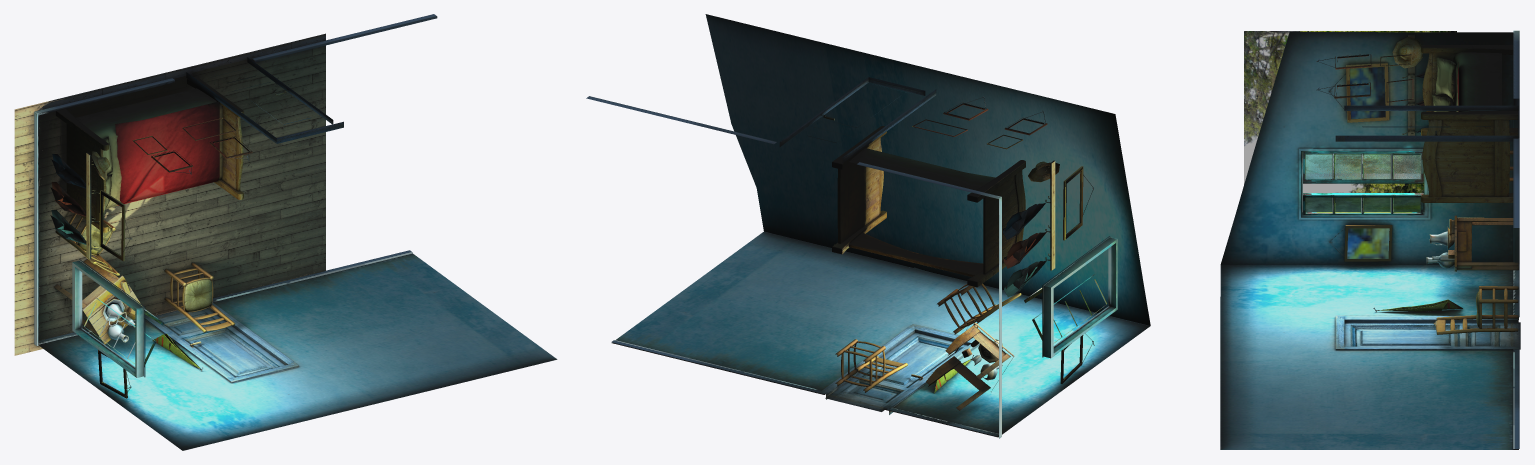
File: van-gogh-room_smaller_textures.glb
3 renders of one model, left to right at view 1: azimuth 30°, elevation 25°; view 2: azimuth 150°, elevation 25°; view 3: azimuth 270°, elevation 25°, orthographic. The views are drawn at different scales.
Parts seen in each view (by area): view 1: walls, FLOOR, bad_for, Doors, bad, rest, chair, table, veshalka, wall_staff; view 2: rest, walls, bad, Doors, veshalka, chair, table, bad_for, wall_staff; view 3: walls, bad, Doors, rest, back, bad_for, glass, wall_staff, table, glass2, chair, win_anim (+2 smaller).
Boxes of the visible parts, x1=… form: walls: x1=38, y1=253, x2=557, y2=450; FLOOR: x1=14, y1=33, x2=325, y2=355; bad_for: x1=76, y1=88, x2=222, y2=220; Doors: x1=144, y1=57, x2=343, y2=383; bad: x1=56, y1=76, x2=243, y2=232; rest: x1=34, y1=14, x2=437, y2=345; chair: x1=56, y1=213, x2=235, y2=332; table: x1=54, y1=259, x2=142, y2=344; veshalka: x1=50, y1=90, x2=287, y2=347; wall_staff: x1=98, y1=118, x2=252, y2=398; rest: x1=586, y1=14, x2=1150, y2=438; walls: x1=612, y1=231, x2=1150, y2=437; bad: x1=832, y1=126, x2=1025, y2=287; Doors: x1=779, y1=77, x2=979, y2=414; veshalka: x1=822, y1=115, x2=1059, y2=380; chair: x1=835, y1=283, x2=1021, y2=392; table: x1=926, y1=322, x2=1014, y2=410; bad_for: x1=849, y1=148, x2=995, y2=190; wall_staff: x1=912, y1=96, x2=1094, y2=393; walls: x1=1220, y1=32, x2=1518, y2=449; bad: x1=1421, y1=45, x2=1518, y2=202; Doors: x1=1335, y1=105, x2=1520, y2=350; rest: x1=1347, y1=30, x2=1519, y2=448; back: x1=1244, y1=31, x2=1456, y2=211; bad_for: x1=1432, y1=52, x2=1501, y2=111; glass: x1=1305, y1=154, x2=1420, y2=178; wall_staff: x1=1316, y1=54, x2=1462, y2=312; table: x1=1426, y1=215, x2=1518, y2=271; glass2: x1=1305, y1=197, x2=1420, y2=212; chair: x1=1436, y1=150, x2=1518, y2=334; win_anim: x1=1303, y1=151, x2=1423, y2=183.
Size of the model in its own units: 6.77 by 3.54 by 3.86.
15 materials, 15 textured.
